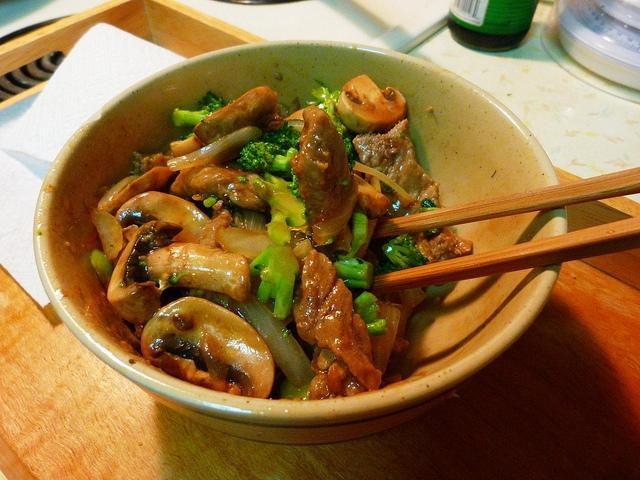broccoli: (305, 85, 356, 172), (250, 244, 300, 319), (236, 139, 298, 179), (172, 90, 232, 128), (376, 234, 429, 275), (336, 208, 368, 260), (352, 290, 388, 336), (334, 256, 374, 290), (262, 121, 300, 150), (265, 205, 291, 246)
mushroom: (107, 222, 252, 324), (140, 296, 276, 400), (192, 86, 278, 146), (116, 191, 210, 242), (337, 74, 407, 132), (103, 166, 176, 214)
